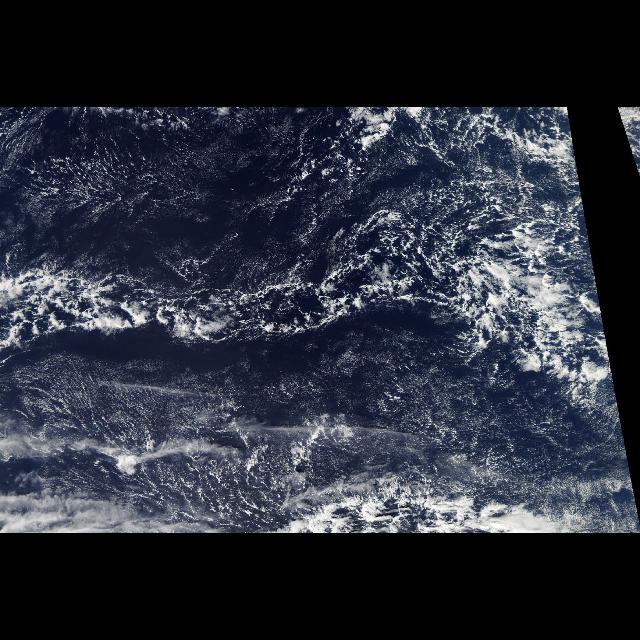Fish: (5, 187, 598, 363)
Gravel: (14, 112, 602, 346), (32, 379, 290, 517), (618, 114, 636, 166)
Sugar: (5, 351, 639, 533), (3, 109, 389, 264)
